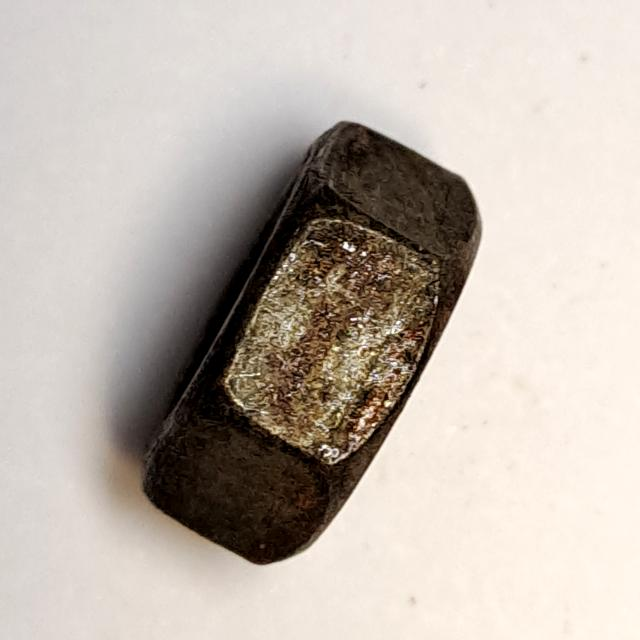Side_Rust: (128, 111, 497, 578)
